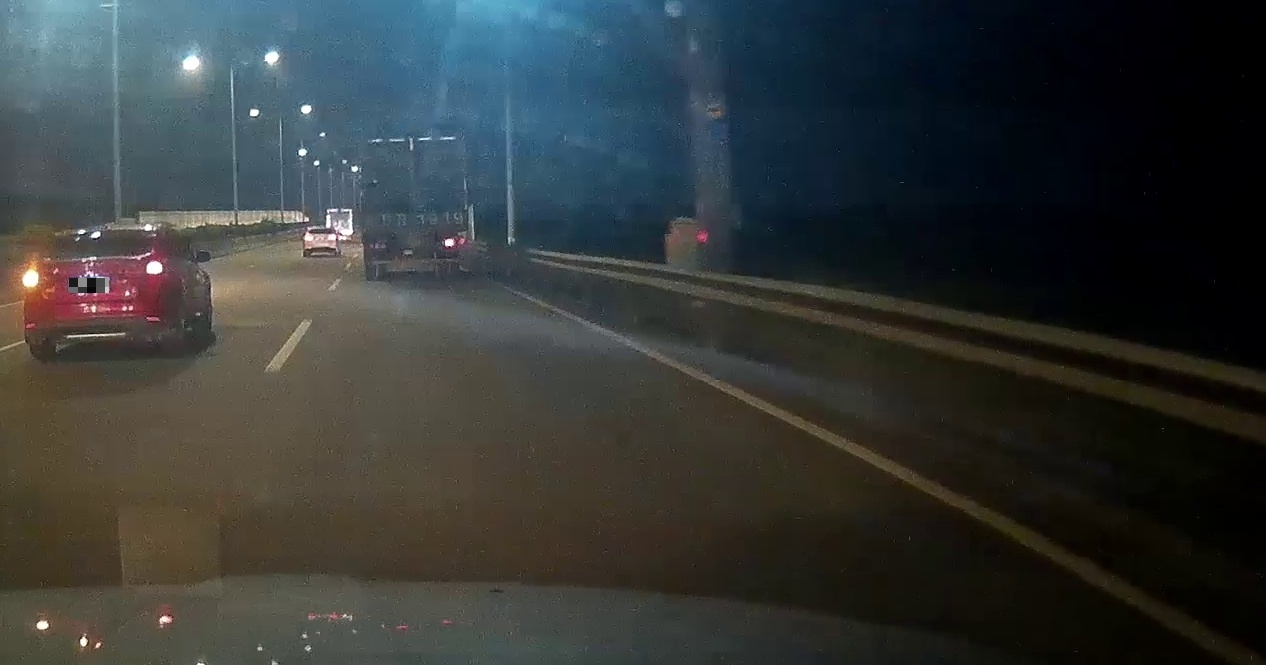L_light: (24, 270, 44, 289), (371, 241, 388, 249), (304, 236, 312, 241)
R_light: (141, 261, 163, 279), (444, 238, 459, 247), (330, 236, 336, 240)
T_light: (91, 231, 111, 234), (407, 142, 420, 145), (320, 229, 326, 231)
night-left: (23, 226, 165, 359)
night-no: (304, 227, 337, 257)
night-right: (360, 135, 468, 280)
plate_1: (69, 278, 109, 293)
